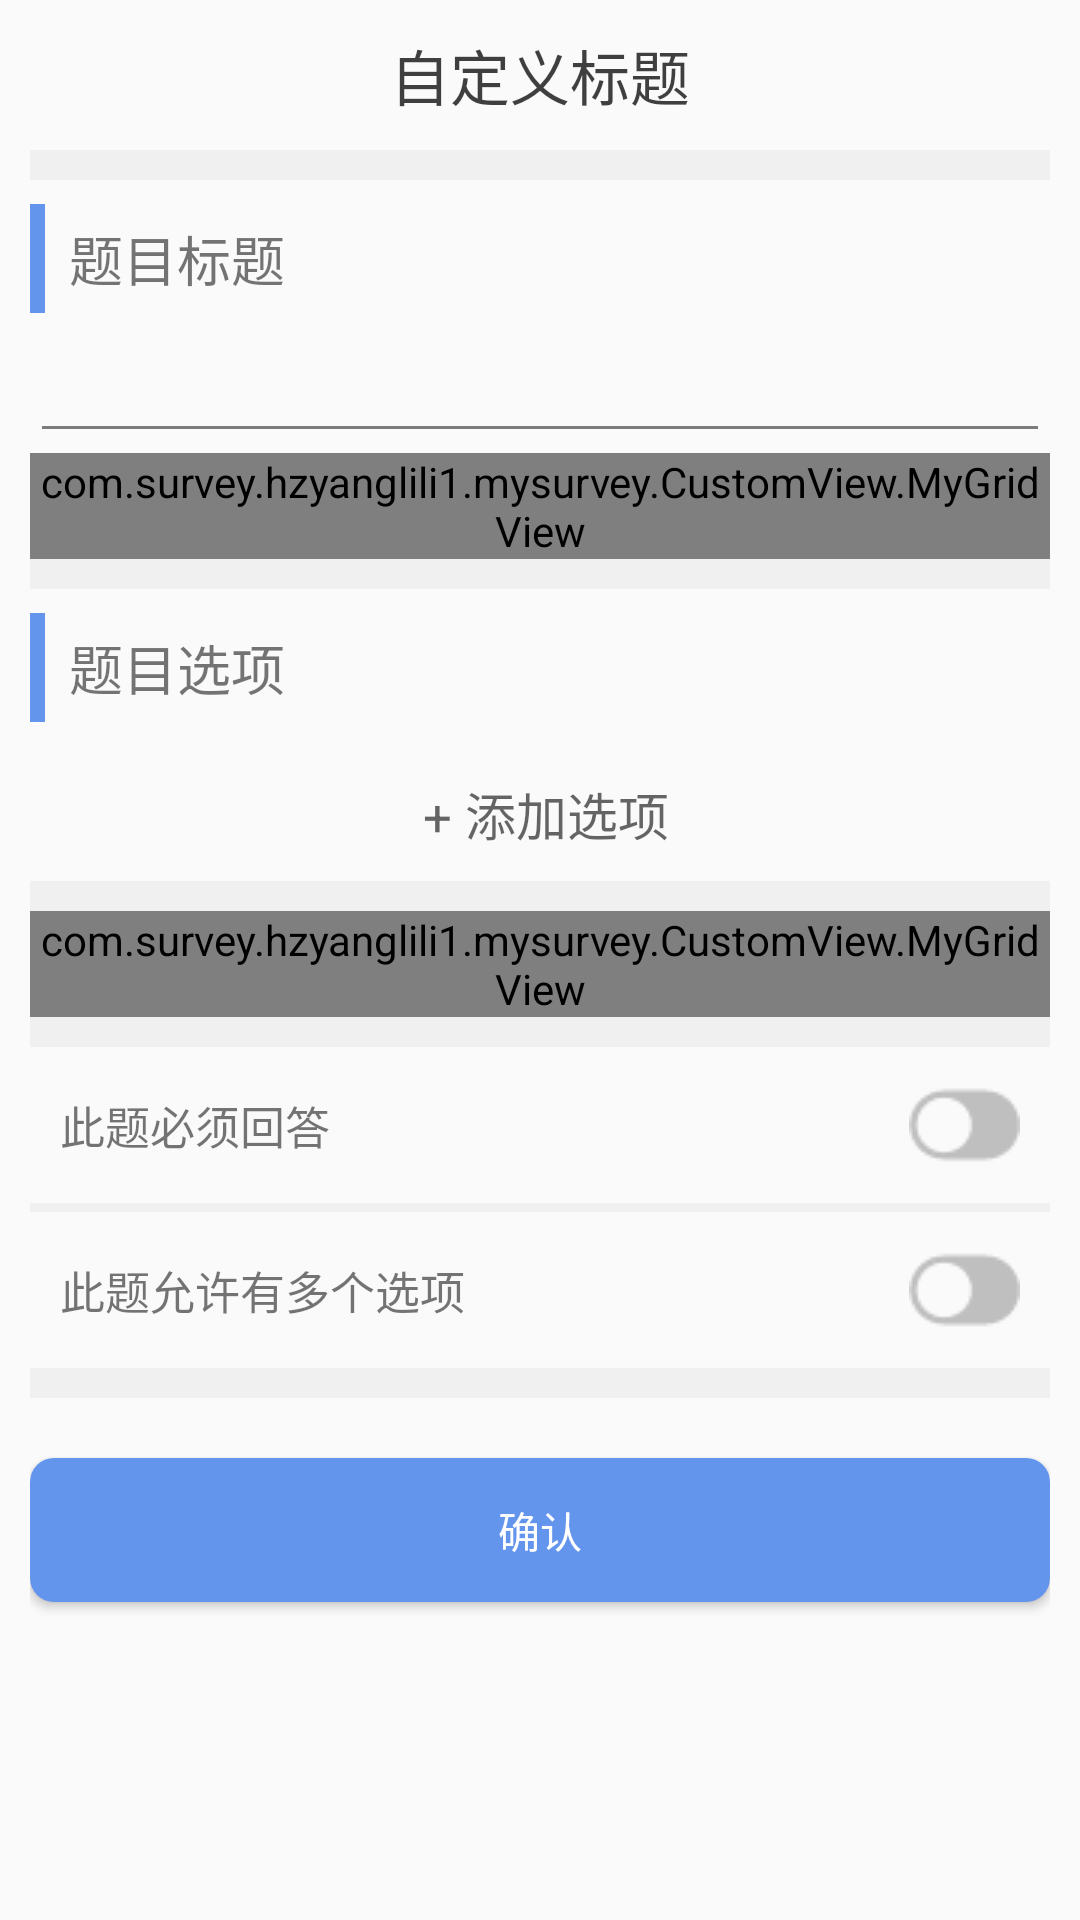

Named icons in this screenshot (1080 x 1920) and their bounding boxes, (x1, y1, x2, y2):
toggle: (909, 1090, 1020, 1160), (909, 1255, 1020, 1325)
